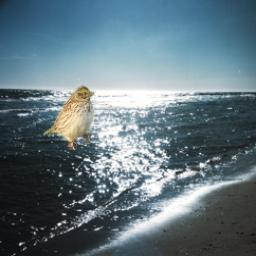Sparrow: (42, 85, 96, 151)
